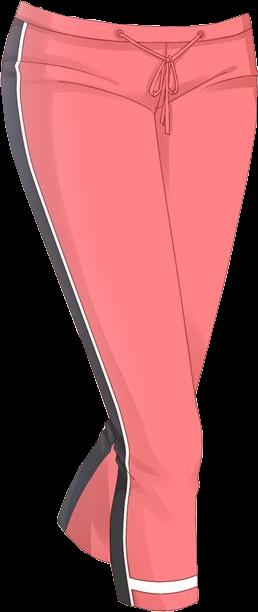Hemline: (115, 598, 199, 611)
Pantleg: (1, 1, 202, 609), (57, 14, 257, 562)
Waistline: (21, 0, 251, 34), (15, 14, 251, 47)
